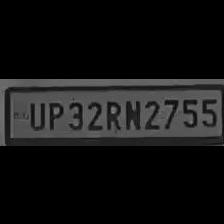2: (140, 96, 160, 130), (84, 98, 104, 130)
3: (64, 97, 84, 128)
5: (198, 93, 218, 126), (178, 95, 198, 127)
7: (160, 96, 178, 128)
N: (122, 96, 140, 130)
P: (44, 99, 64, 129)
R: (102, 96, 122, 130)
U: (25, 97, 45, 128)
